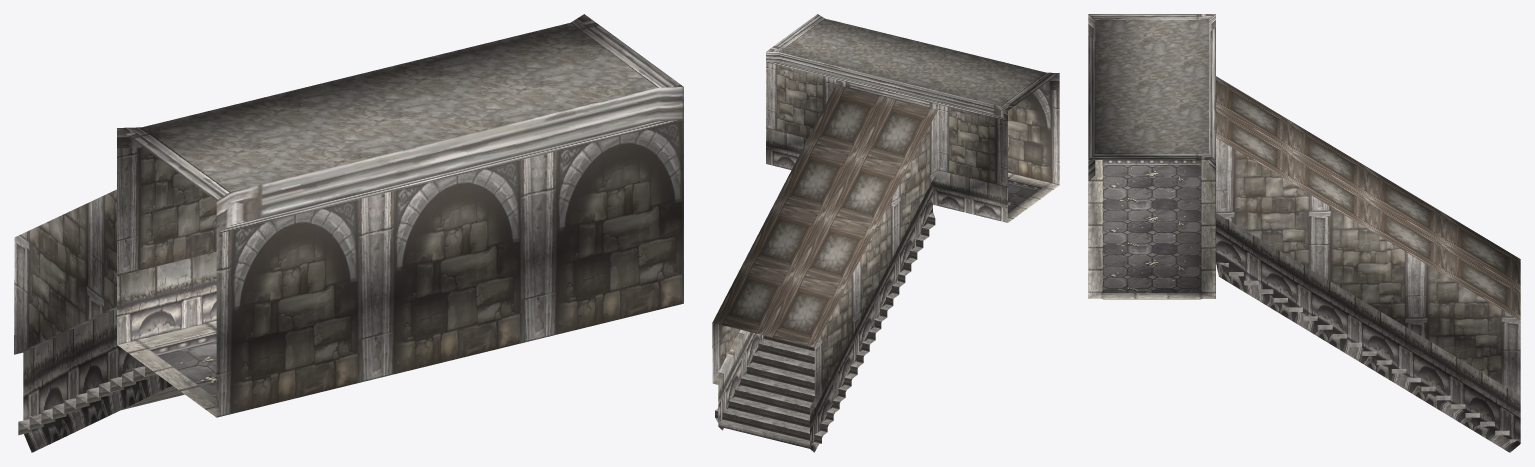
The model's file is stormwind_142.fbx.
3 views of the same model, side by side, from view 1: azimuth 30°, elevation 25°; view 2: azimuth 150°, elevation 25°; view 3: azimuth 270°, elevation 25° (orthographic). The views are drawn at different scales.
Parts seen in each view (by area): view 1: stormwind_142_152, stormwind_142_161, stormwind_142_159, stormwind_142_154, stormwind_142_153, stormwind_142_158, stormwind_142_157; view 2: stormwind_142_156, stormwind_142_159, stormwind_142_161, stormwind_142_154, stormwind_142_158, stormwind_142_152, stormwind_142_153, stormwind_142_157; view 3: stormwind_142_159, stormwind_142_156, stormwind_142_154, stormwind_142_161, stormwind_142_157, stormwind_142_153, stormwind_142_152, stormwind_142_158.
Boxes of the visible parts, <box> form: stormwind_142_152: <box>117,14,683,417</box>; stormwind_142_161: <box>142,22,657,191</box>; stormwind_142_159: <box>14,147,216,354</box>; stormwind_142_154: <box>15,251,216,452</box>; stormwind_142_153: <box>117,320,216,417</box>; stormwind_142_158: <box>18,365,184,435</box>; stormwind_142_157: <box>158,341,216,398</box>; stormwind_142_156: <box>712,85,937,347</box>; stormwind_142_159: <box>712,62,1007,407</box>; stormwind_142_161: <box>779,18,1046,105</box>; stormwind_142_154: <box>713,128,1007,452</box>; stormwind_142_158: <box>715,212,935,448</box>; stormwind_142_152: <box>766,14,1059,184</box>; stormwind_142_153: <box>1008,172,1059,222</box>; stormwind_142_157: <box>1008,183,1037,212</box>; stormwind_142_159: <box>1216,138,1520,395</box>; stormwind_142_156: <box>1216,76,1520,320</box>; stormwind_142_154: <box>1216,213,1520,452</box>; stormwind_142_161: <box>1095,20,1208,153</box>; stormwind_142_157: <box>1103,165,1201,292</box>; stormwind_142_153: <box>1088,160,1215,299</box>; stormwind_142_152: <box>1088,14,1215,180</box>; stormwind_142_158: <box>1217,262,1519,443</box>.
Size of the model in its own units: 13.4 by 14.48 by 16.77.
